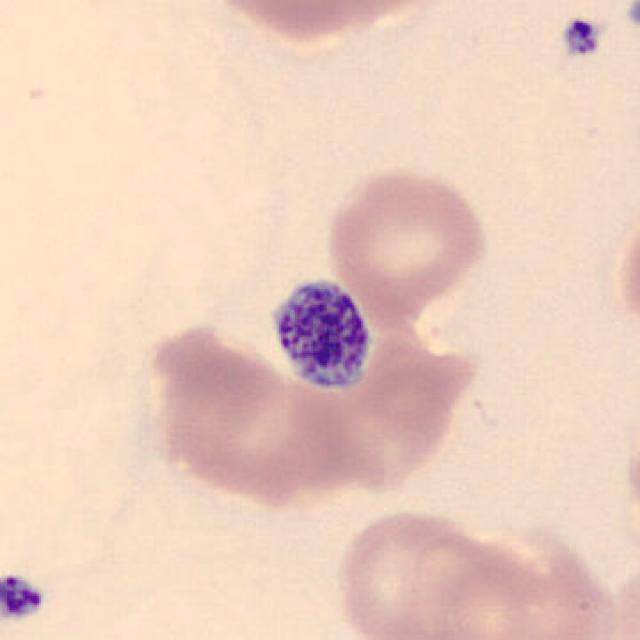Platelets: (265, 275, 377, 397), (0, 571, 50, 628), (558, 14, 604, 62), (622, 0, 640, 37)
RBC: (137, 318, 364, 512), (331, 504, 533, 640), (324, 164, 491, 317), (400, 525, 615, 640), (195, 0, 460, 46), (611, 206, 640, 345)
